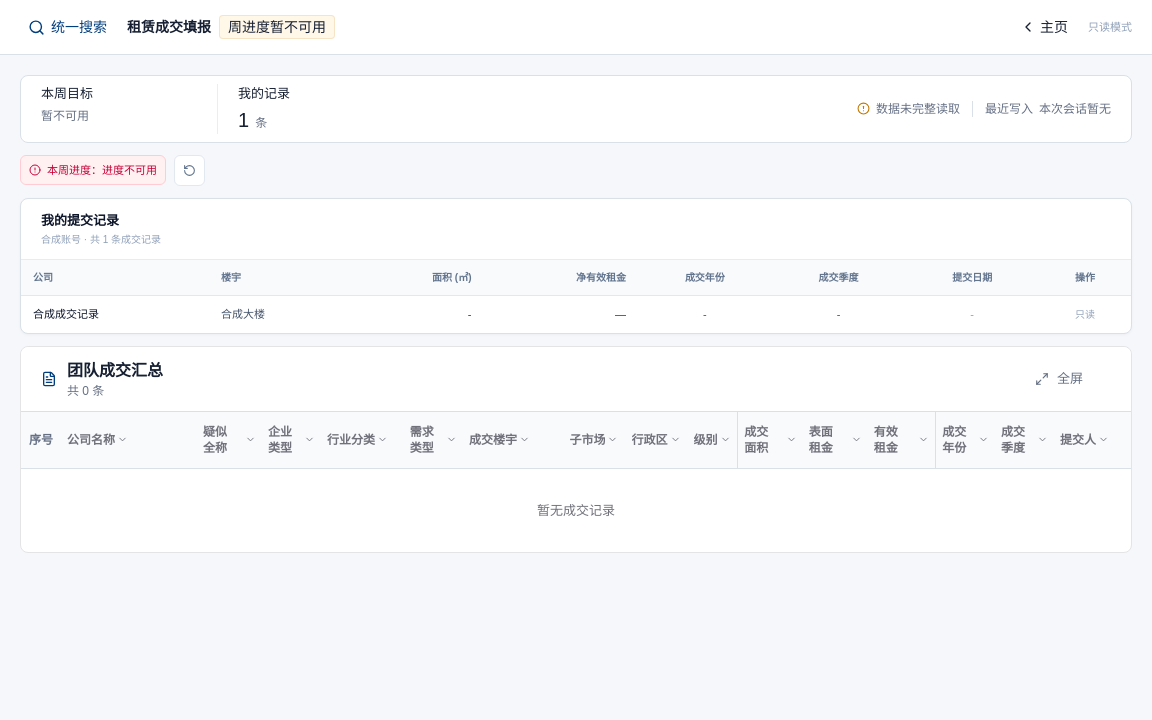
Test case: 租赁成交工作区独立读取 › keeps history usable after progress fails and retries only the failed resource
Expected: the text "合成成交记录" is shown, 21,296 -> 209,332
Expected: the text "数据已就绪" is not shown
Click the button named "重试加载本周进度" at (190, 170), box 174,154 -> 205,186
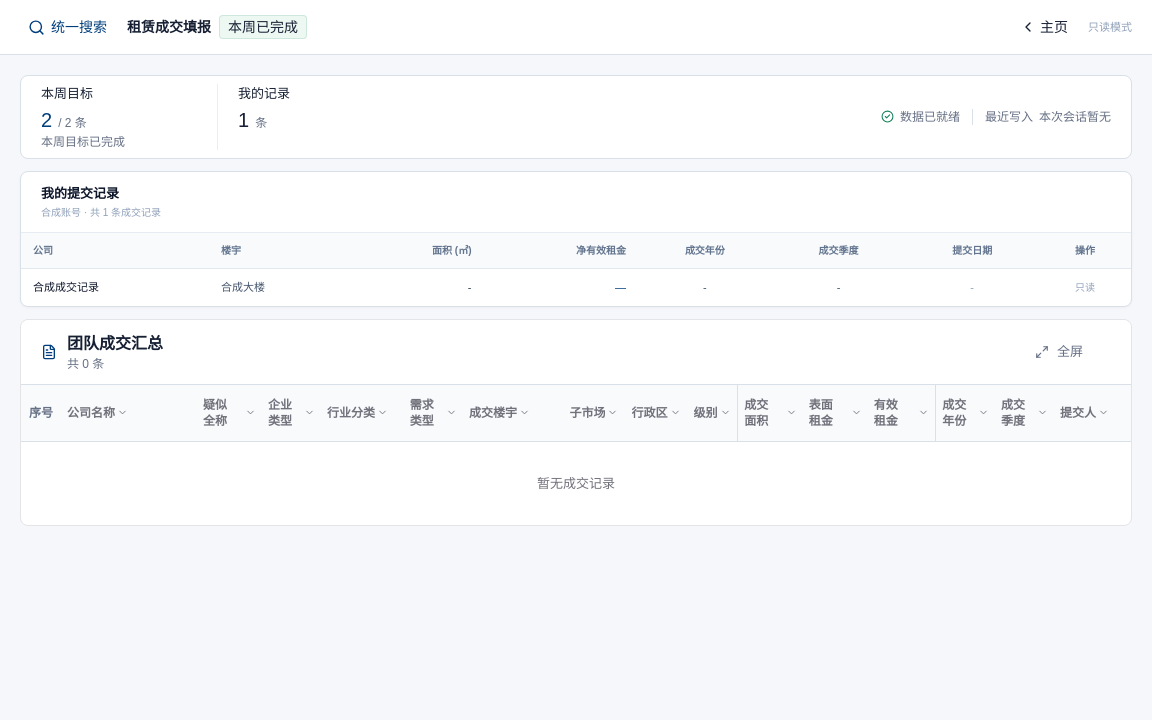
Result: the text "本周已完成" is shown at 219,15 -> 307,39
